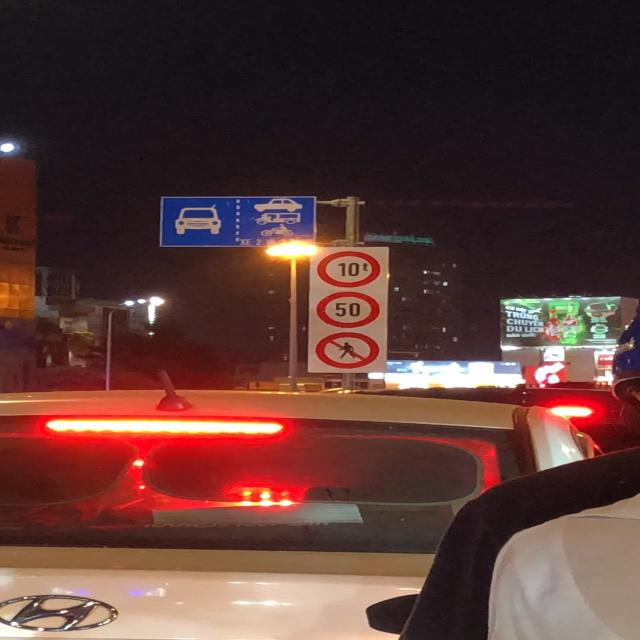Bien bao cam nguoi di bo: (314, 331, 382, 369)
Bien bao toc do toi da cho phep: (316, 290, 381, 329)
